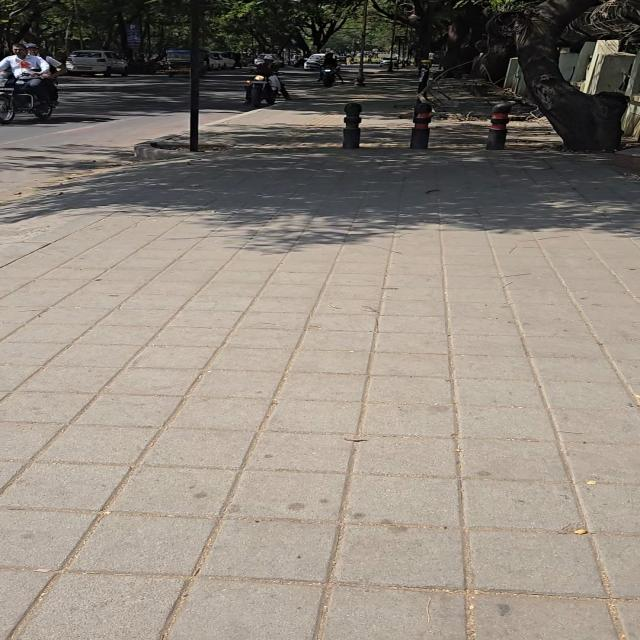obstacle: (502, 0, 628, 151), (443, 3, 485, 75), (472, 36, 516, 85), (190, 0, 200, 151), (486, 103, 512, 150), (355, 0, 368, 86), (410, 101, 431, 149), (343, 102, 362, 149), (389, 0, 398, 71), (74, 0, 84, 49)
